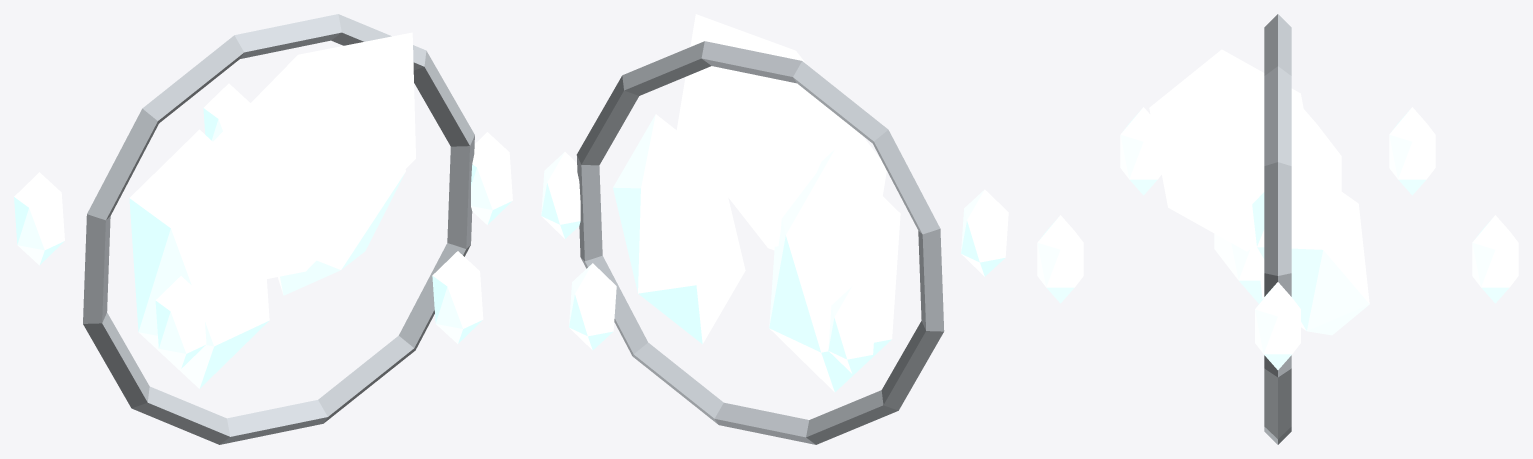
Rendered from crystal_focus.glb.
The picture shows the model from 3 angles, left to right: view 1: azimuth 30°, elevation 25°; view 2: azimuth 150°, elevation 25°; view 3: azimuth 270°, elevation 25°; orthographic projection. The views are drawn at different scales.
Visible parts, largest first — view 1: Crystal_2, SilverCage, Crystal_0, OrbitChip_3, OrbitChip_4, OrbitChip_2, Crystal_1, OrbitChip_0, OrbitChip_1; view 2: SilverCage, Crystal_2, Crystal_0, Crystal_1, OrbitChip_3, OrbitChip_1, OrbitChip_2, OrbitChip_0; view 3: Crystal_2, Crystal_1, SilverCage, Crystal_0, OrbitChip_1, OrbitChip_4, OrbitChip_2, OrbitChip_0, OrbitChip_3.
Boxes of the visible parts, x1=… form: Crystal_2: x1=207, y1=32, x2=415, y2=284; SilverCage: x1=83, y1=14, x2=474, y2=444; Crystal_0: x1=129, y1=129, x2=269, y2=388; OrbitChip_3: x1=155, y1=276, x2=206, y2=368; OrbitChip_4: x1=432, y1=251, x2=483, y2=343; OrbitChip_2: x1=14, y1=172, x2=64, y2=265; Crystal_1: x1=278, y1=169, x2=405, y2=295; OrbitChip_0: x1=471, y1=132, x2=512, y2=224; OrbitChip_1: x1=203, y1=83, x2=250, y2=141; SilverCage: x1=576, y1=41, x2=944, y2=444; Crystal_2: x1=676, y1=14, x2=886, y2=250; Crystal_0: x1=769, y1=149, x2=900, y2=392; Crystal_1: x1=613, y1=114, x2=745, y2=344; OrbitChip_3: x1=961, y1=189, x2=1008, y2=276; OrbitChip_1: x1=569, y1=263, x2=616, y2=350; OrbitChip_2: x1=828, y1=286, x2=875, y2=373; OrbitChip_0: x1=541, y1=152, x2=580, y2=238; Crystal_2: x1=1149, y1=49, x2=1315, y2=251; Crystal_1: x1=1252, y1=168, x2=1369, y2=335; SilverCage: x1=1264, y1=14, x2=1291, y2=444; Crystal_0: x1=1214, y1=109, x2=1341, y2=303; OrbitChip_1: x1=1472, y1=215, x2=1518, y2=303; OrbitChip_4: x1=1037, y1=215, x2=1083, y2=303; OrbitChip_2: x1=1389, y1=107, x2=1435, y2=195; OrbitChip_0: x1=1255, y1=282, x2=1300, y2=369; OrbitChip_3: x1=1120, y1=107, x2=1161, y2=195.
Bounding box in the file's own units: 0.8596 × 0.7898 × 0.884.
